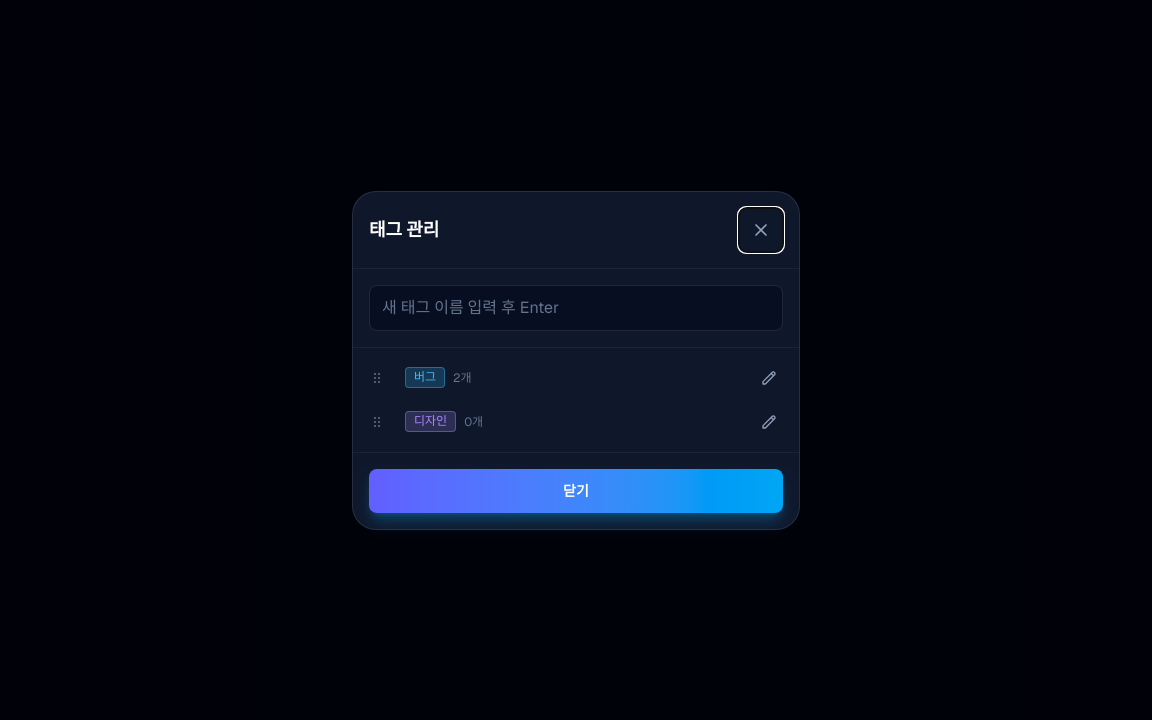
TagModal — 리뷰 1라운드 회귀 › 저장 요청이 진행 중이면 X·다른 태그 편집이 "버리기"를 묻지 않고 기다린다
What coordinates should you click on to do the following:
click the button named "버그 태그 수정"
I would click on:
 (769, 378)
Its box is [747,356,791,400].
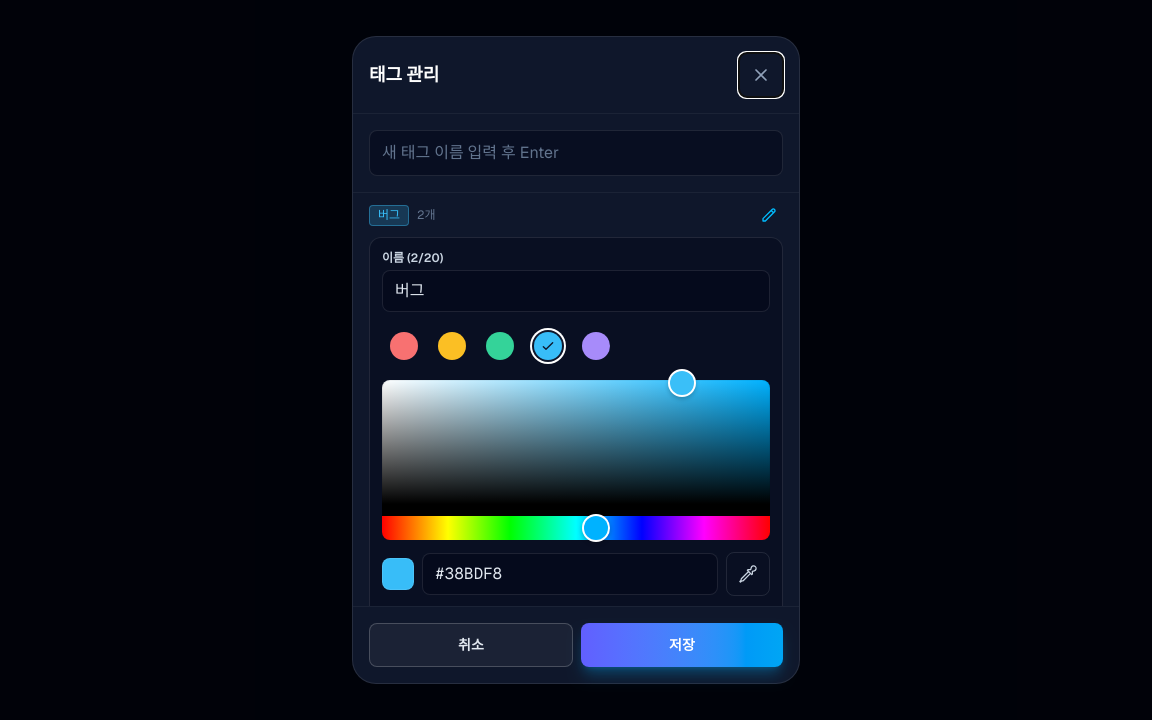
What coordinates should you click on to do the following:
click the button named "추천 색 #F87171"
I would click on:
 (404, 346)
Its box is [382,324,426,368].
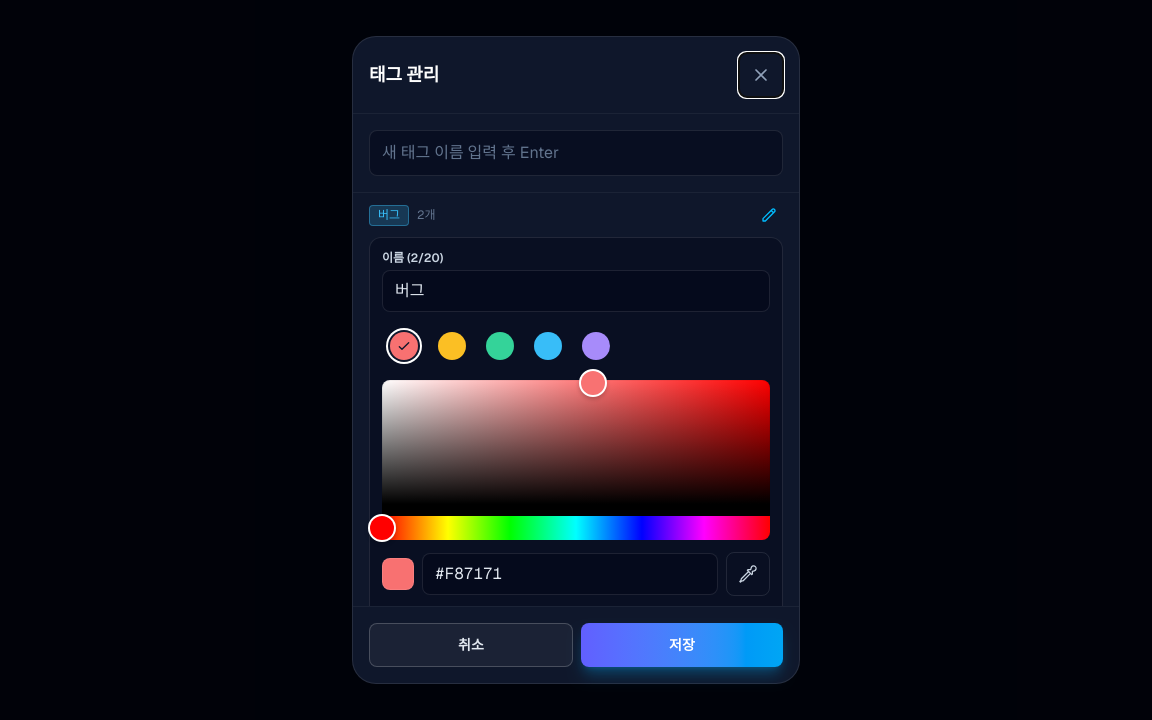
What coordinates should you click on to do the following:
click the button "저장"
I would click on:
 (682, 645)
Its box is [581,623,783,667].
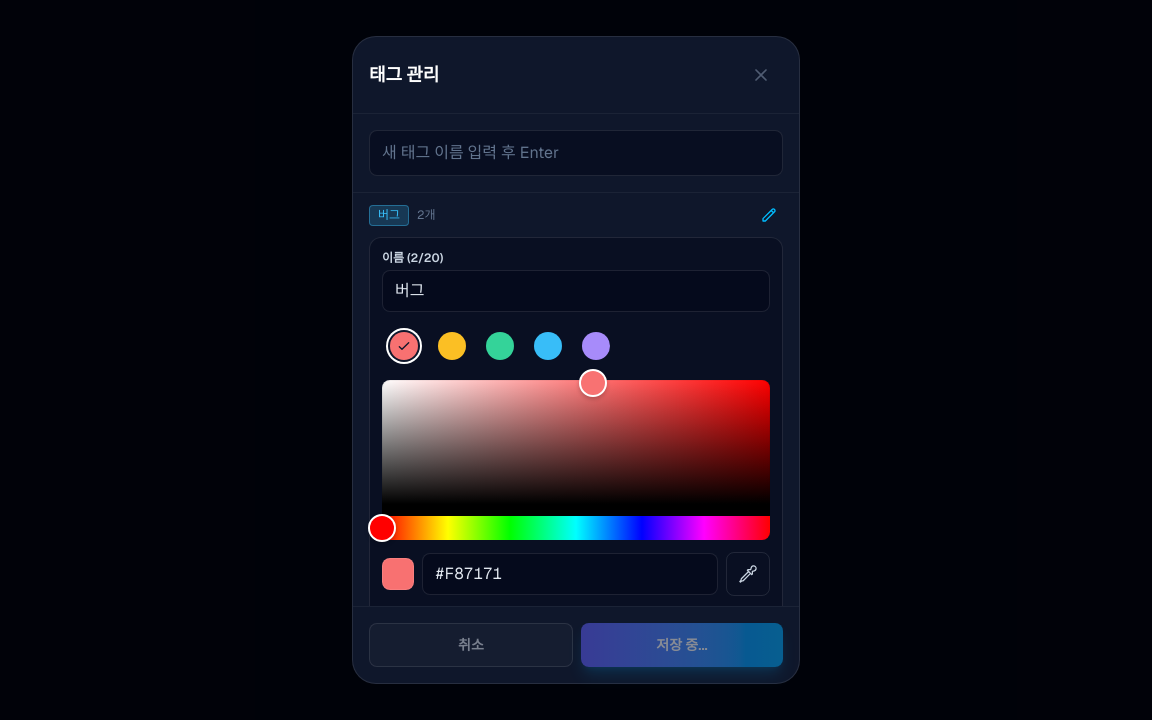
Result: the button "저장 중..." is shown at [581,623,783,667]
What coordinates should you click on to do the following:
click the button named "닫기"
I would click on:
 (761, 75)
Its box is [739,53,783,97].
(page scrolled)
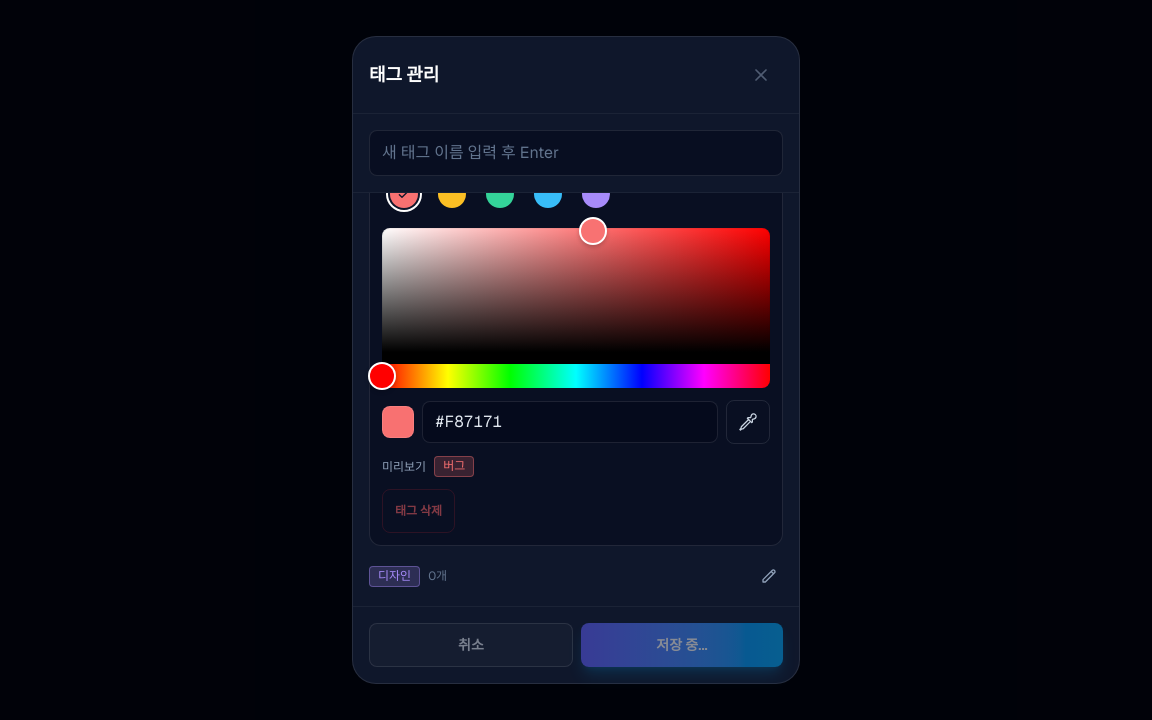
What coordinates should you click on to do the following:
click the button named "디자인 태그 수정"
I would click on:
 (769, 576)
Its box is [747,554,791,598].
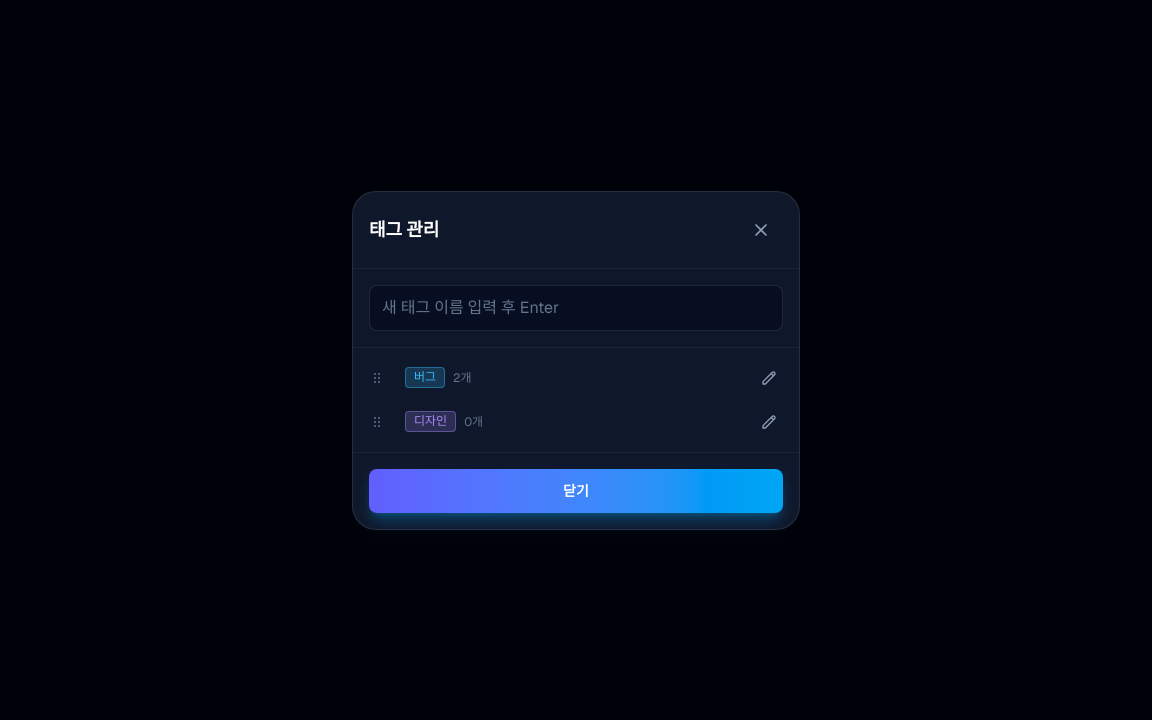
Result: the button "저장 중..." is gone
